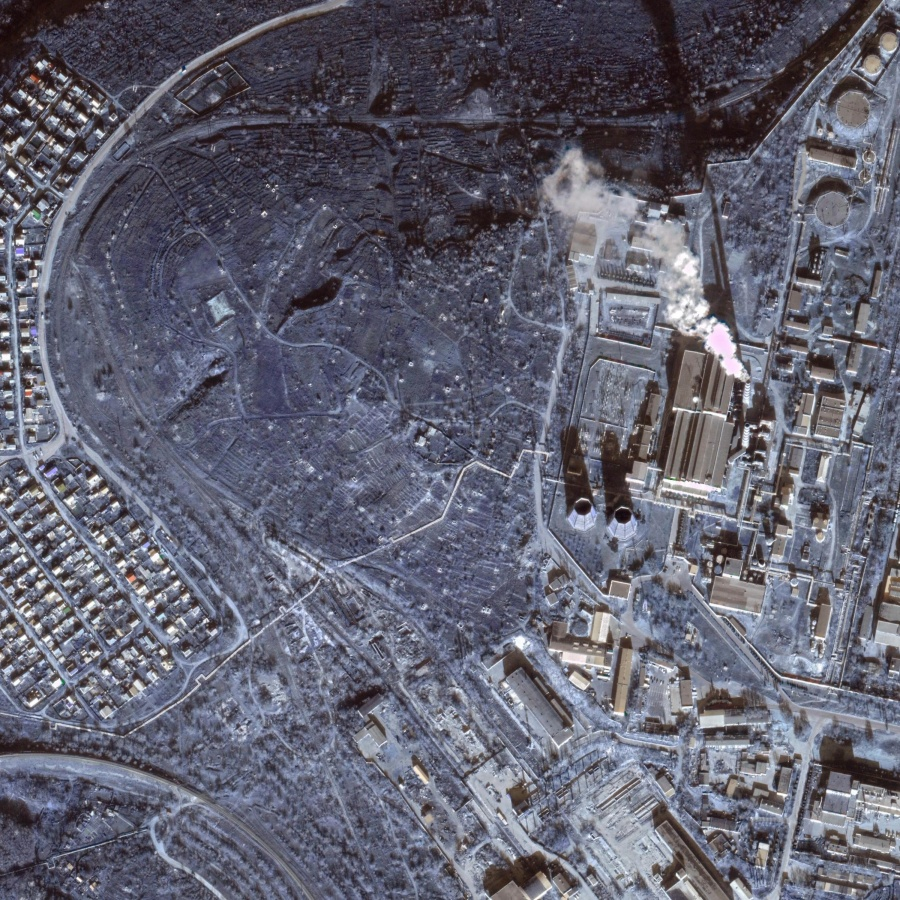PowerPlant: (554, 291, 777, 552)
